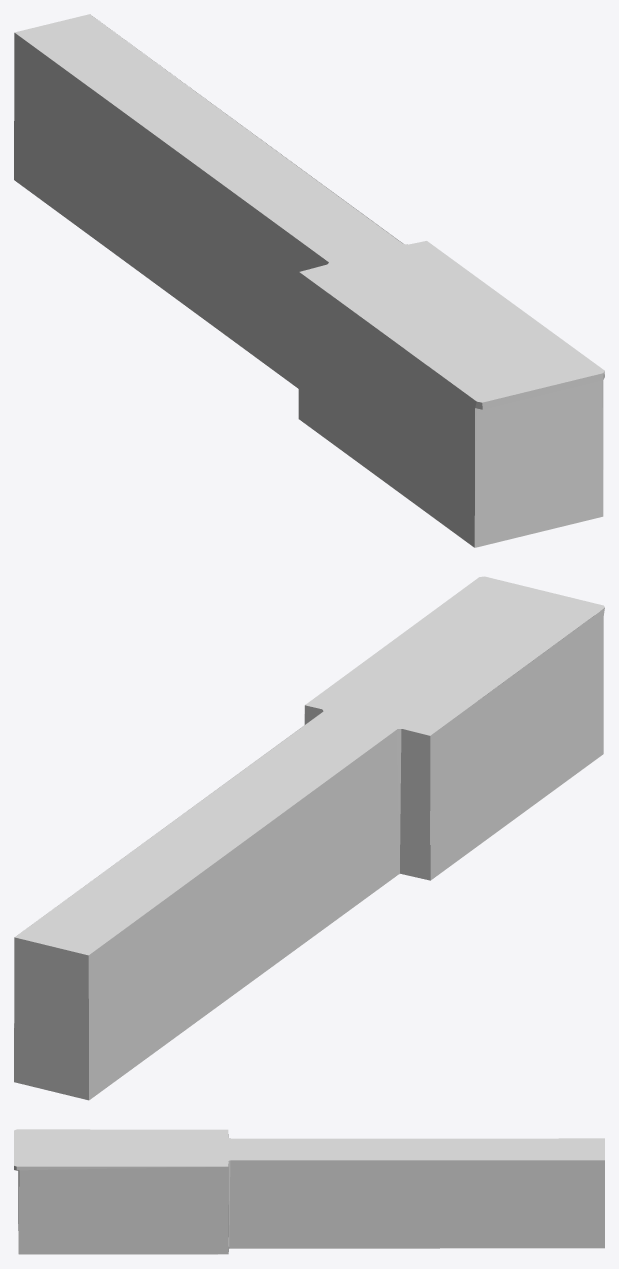
File: piano_key_A.gltf
The picture shows the model from 3 angles, top to bottom: view 1: azimuth 30°, elevation 25°; view 2: azimuth 150°, elevation 25°; view 3: azimuth 270°, elevation 25°; orthographic projection. The views are drawn at different scales.
Parts seen in each view (by area): view 1: defaultMaterial.004; view 2: defaultMaterial.004; view 3: defaultMaterial.004.
Boxes of the visible parts, <box> form: defaultMaterial.004: <box>14,14,604,547</box>; defaultMaterial.004: <box>14,576,604,1100</box>; defaultMaterial.004: <box>14,1129,604,1254</box>.
Size of the model in its own units: 0.4956 by 0.5391 by 3.29.
Materials: 1 (1 with a texture image).
